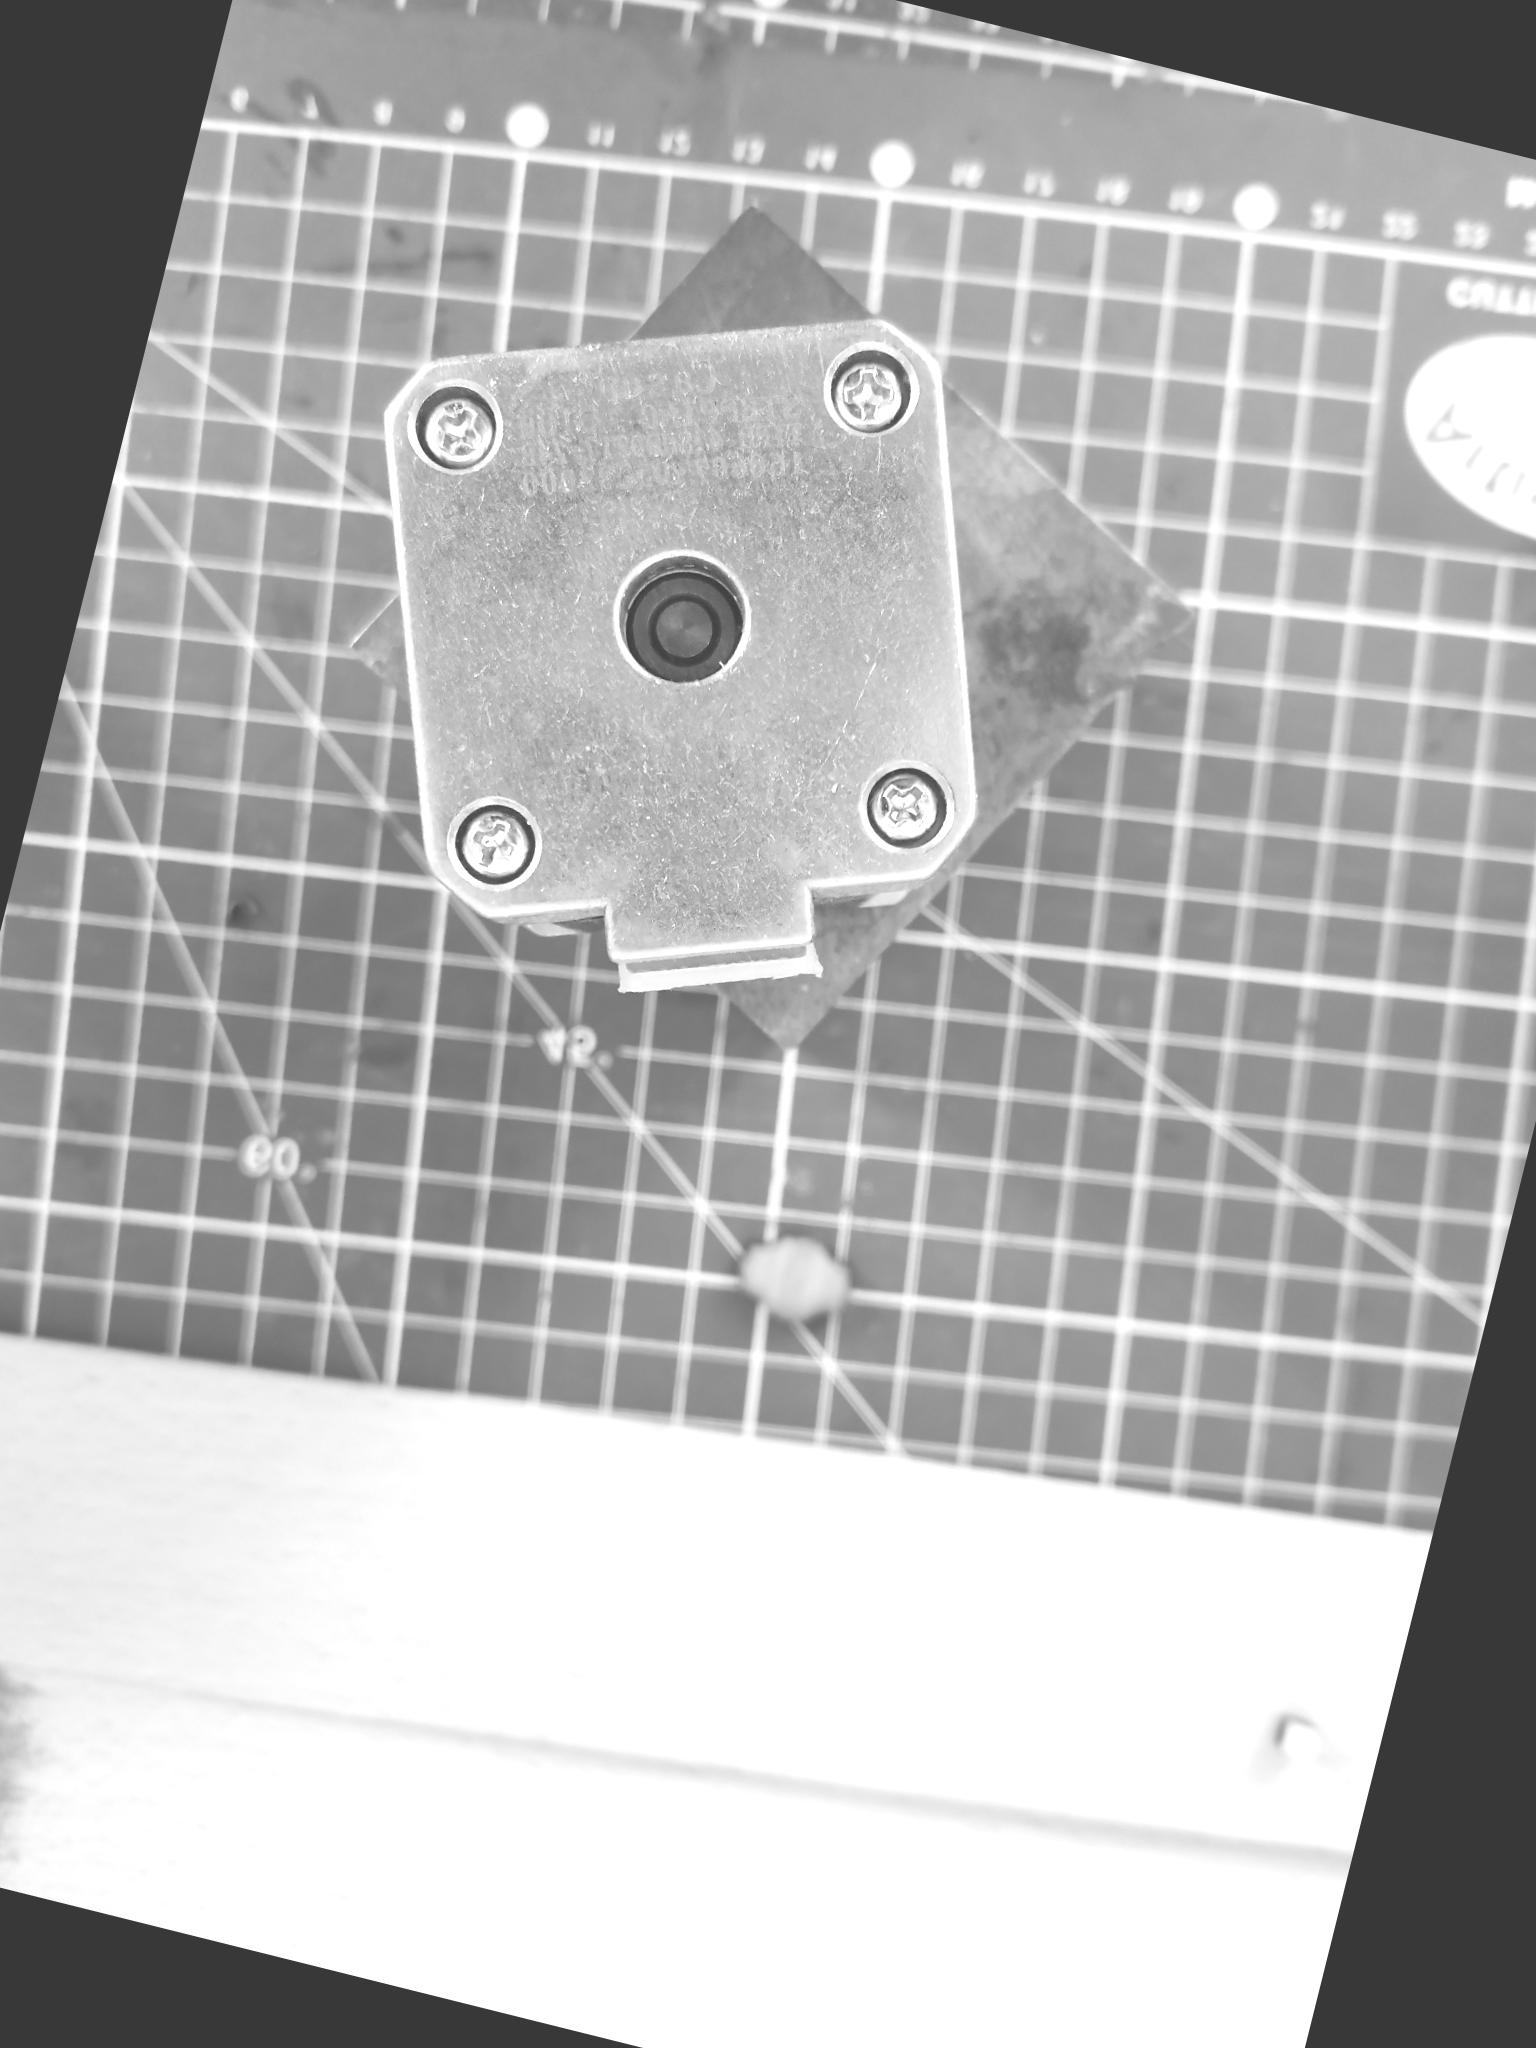screw: (395, 371, 515, 489), (810, 331, 928, 445), (852, 750, 965, 864), (439, 782, 550, 890)
